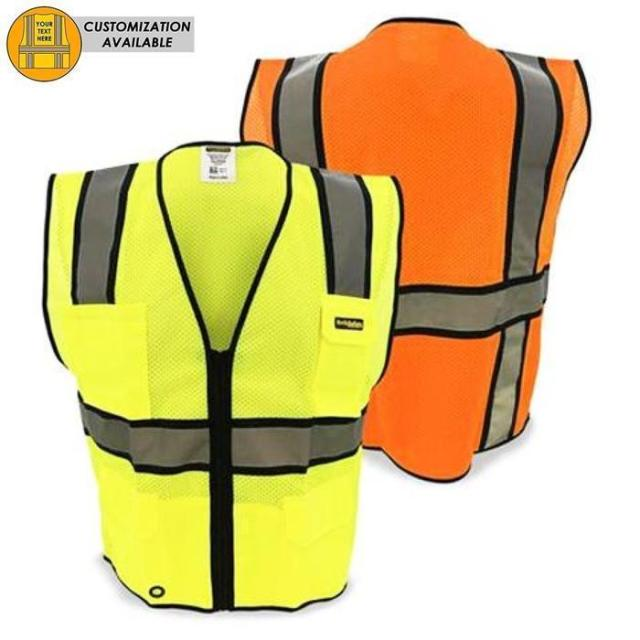Vest: (40, 141, 402, 614), (234, 18, 594, 486)
